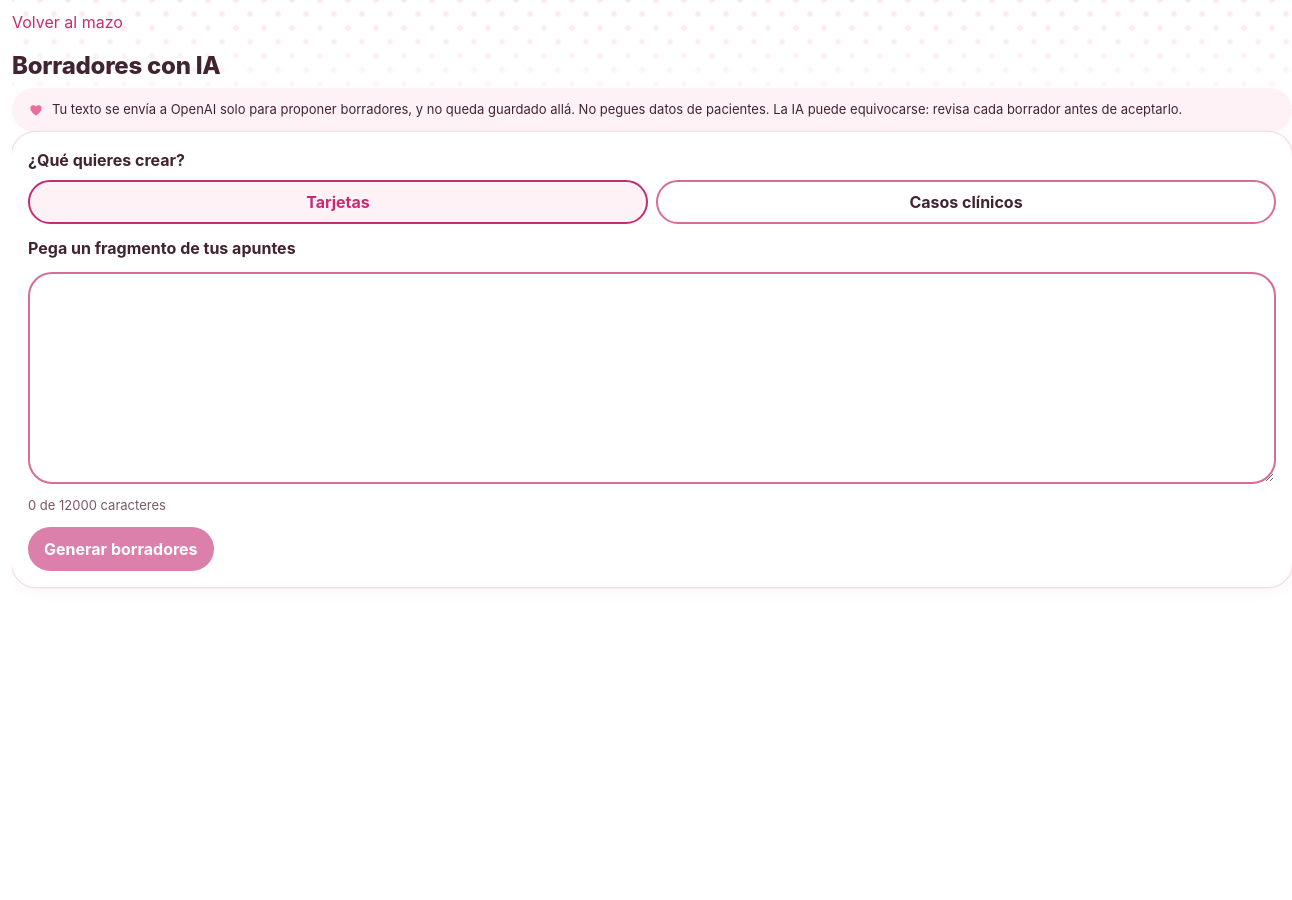
it: Borradores con IA (LEARNING-DESIGN §8) › LD17: con la cuota agotada lo dice y su texto sigue ahí
This screenshot has width=1292, height=900.
Type "El deltoides está inervado por el nervio axilar, que sale del fascículo posterior." into the text box labelled "Pega un fragmento de tus apuntes" at point(652, 378), box [28,272,1276,484]
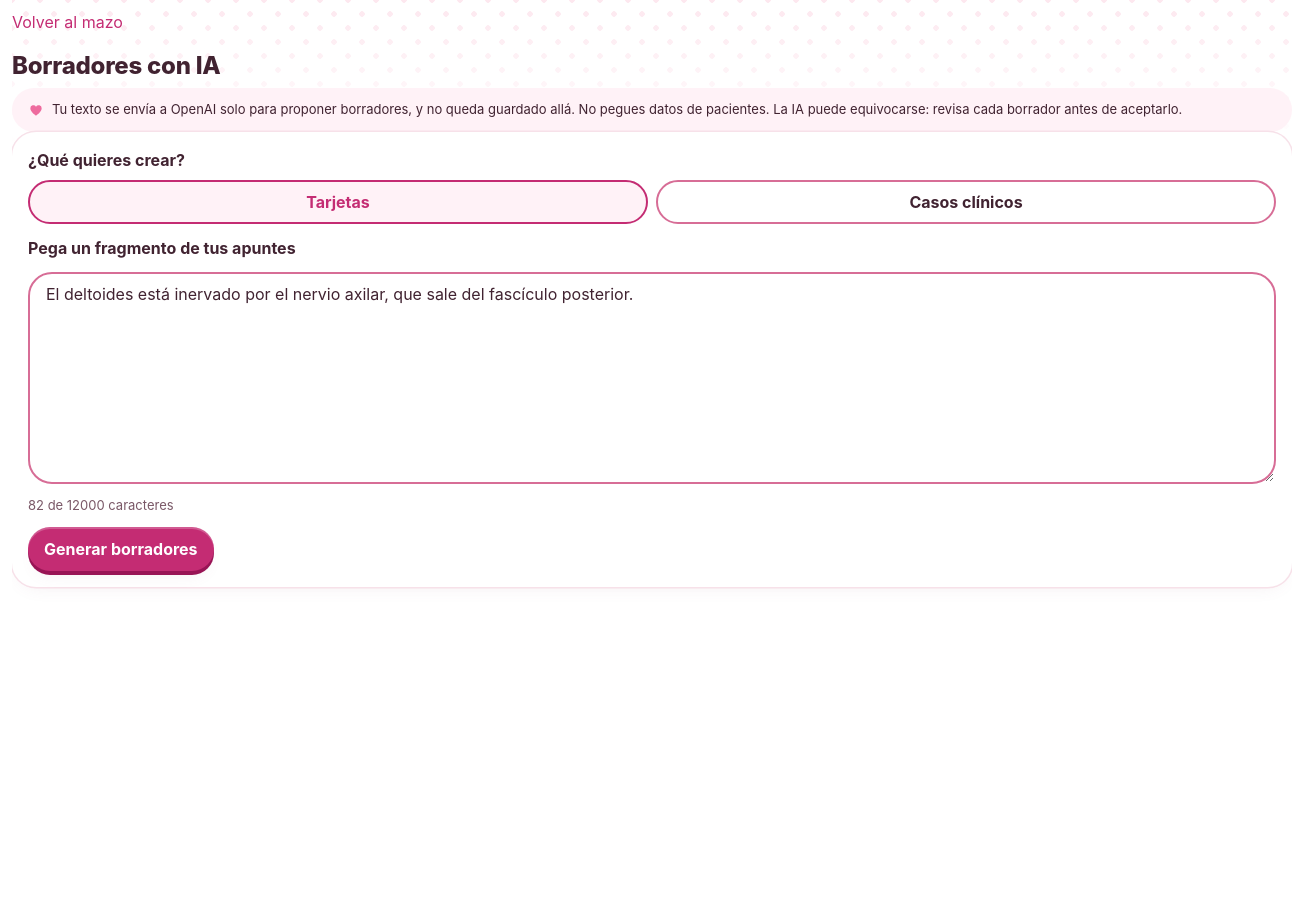
Click the button "Generar borradores" at point(121, 549), box [28,527,214,571]
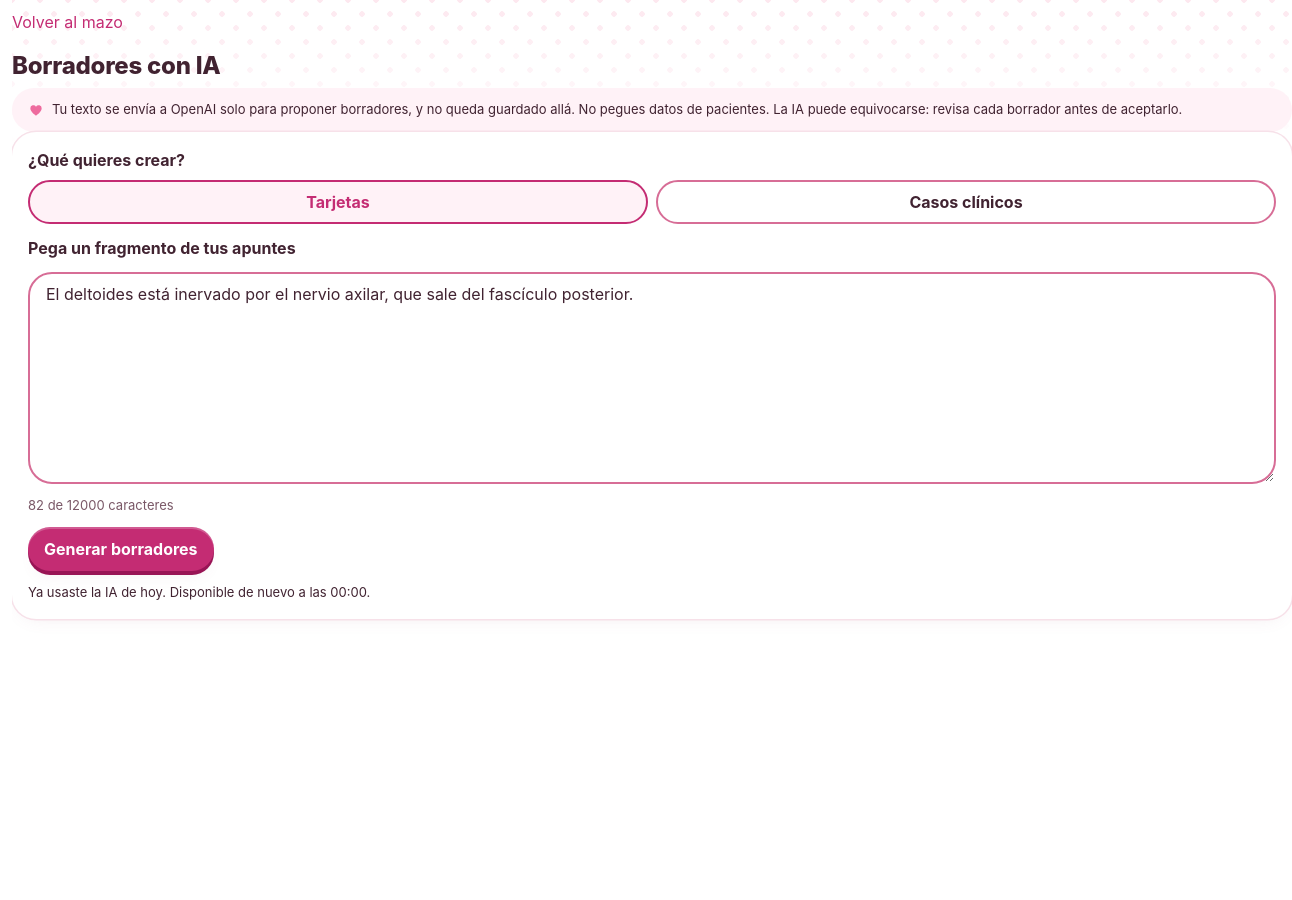
Expected: the text "Ya usaste la IA de hoy. Disponible de nuevo a las 00:00." is shown, [28,584,370,600]
